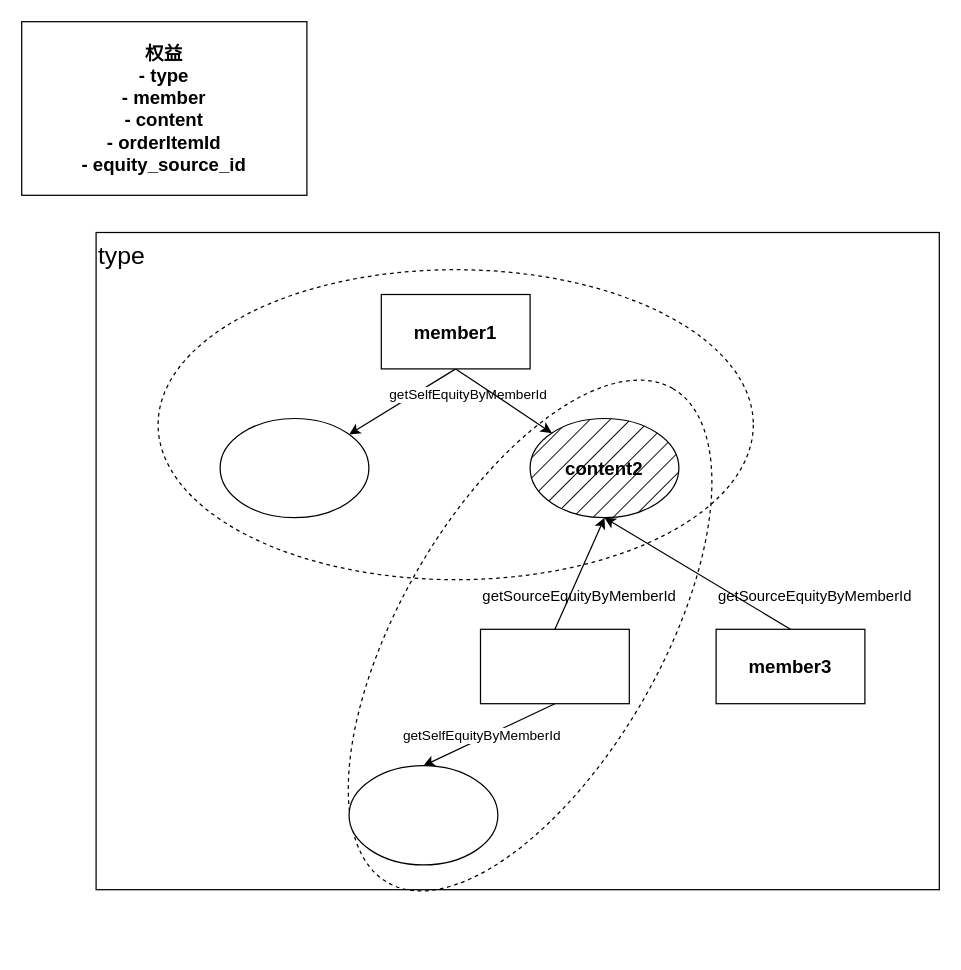
Image size: 961x970. Some labels were removed from this diagram. Here are the shapes that lost their labels. From the top down, the centre of each, then its label:
At (294,467): "content1".
At (554,666): "member2".
At (423,814): "权益3".
